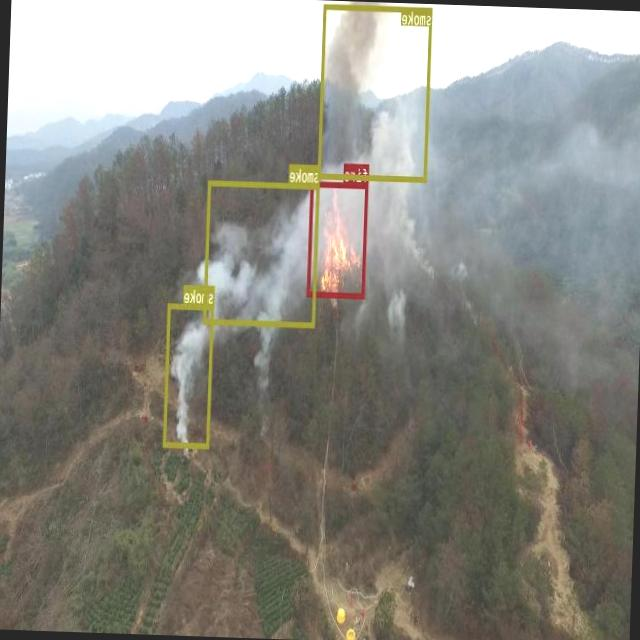fire: (307, 180, 369, 296)
smoke: (318, 3, 433, 181), (203, 179, 320, 326), (162, 302, 215, 448)
